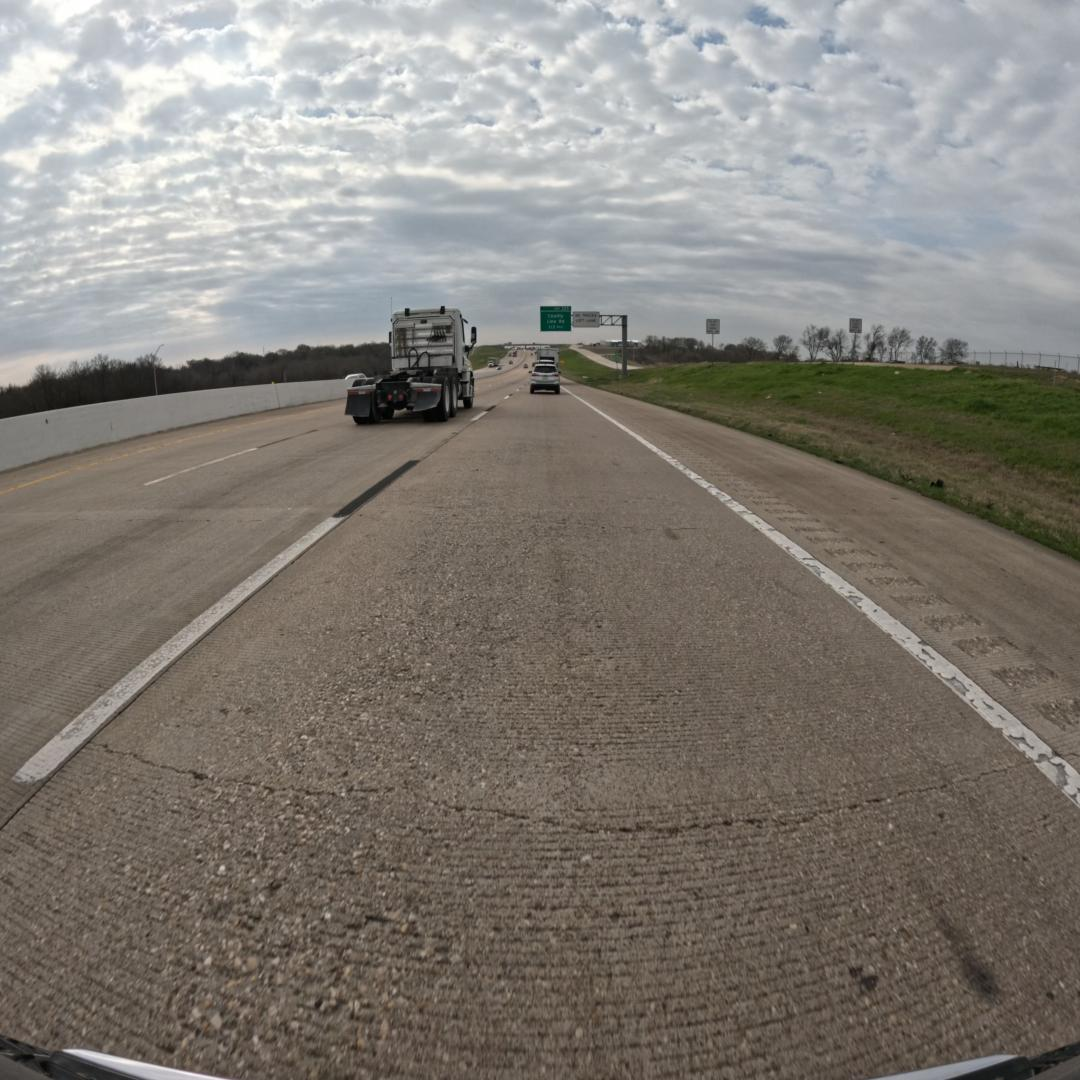lane0: (0, 392, 1080, 1077)
lane1: (0, 420, 473, 826)
